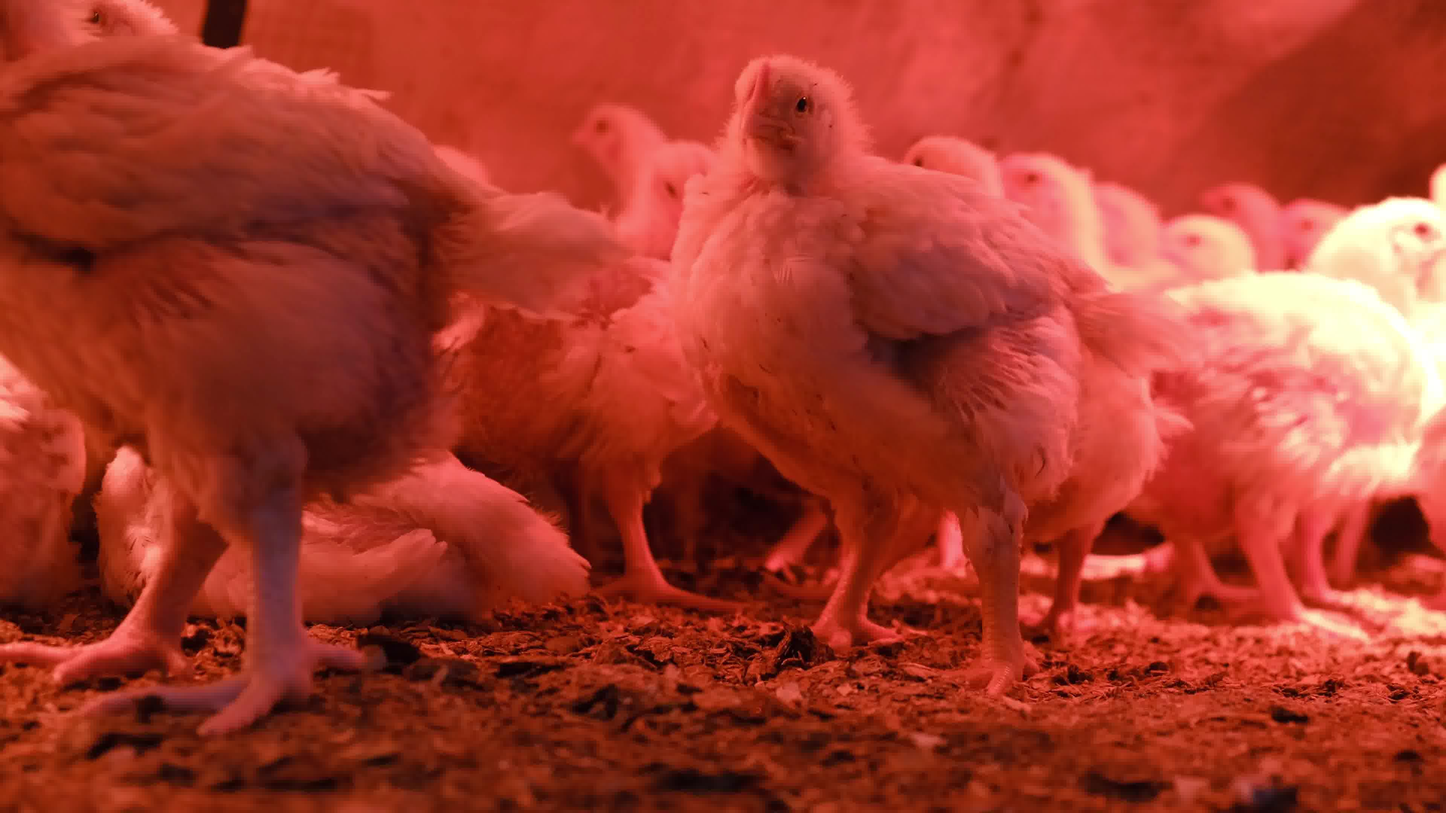AbNormal: (99, 386, 584, 627), (2, 341, 85, 587)
Normal: (0, 0, 652, 742), (665, 53, 1206, 694), (898, 130, 1182, 638), (451, 128, 735, 619), (1143, 194, 1446, 629), (1000, 147, 1119, 294), (554, 96, 653, 200), (1192, 177, 1289, 267), (1087, 185, 1156, 271), (1284, 196, 1360, 265), (1164, 213, 1248, 274)
